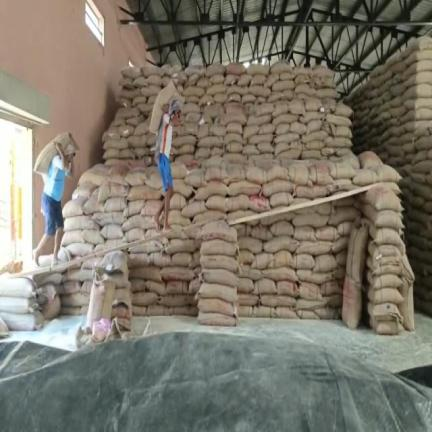Zone-Counting: (34, 132, 78, 264), (149, 81, 182, 229)
